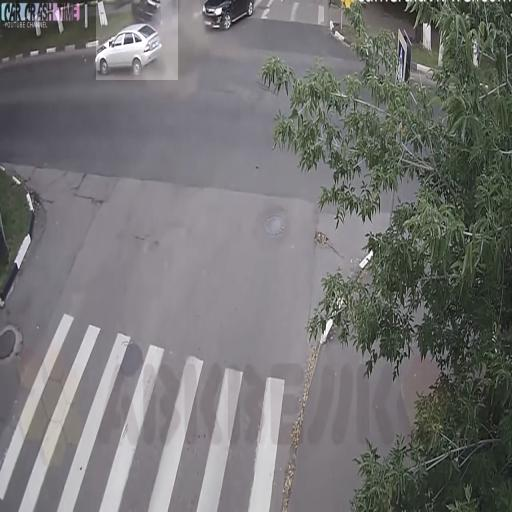小汽车撞小汽车: (96, 0, 178, 80)
